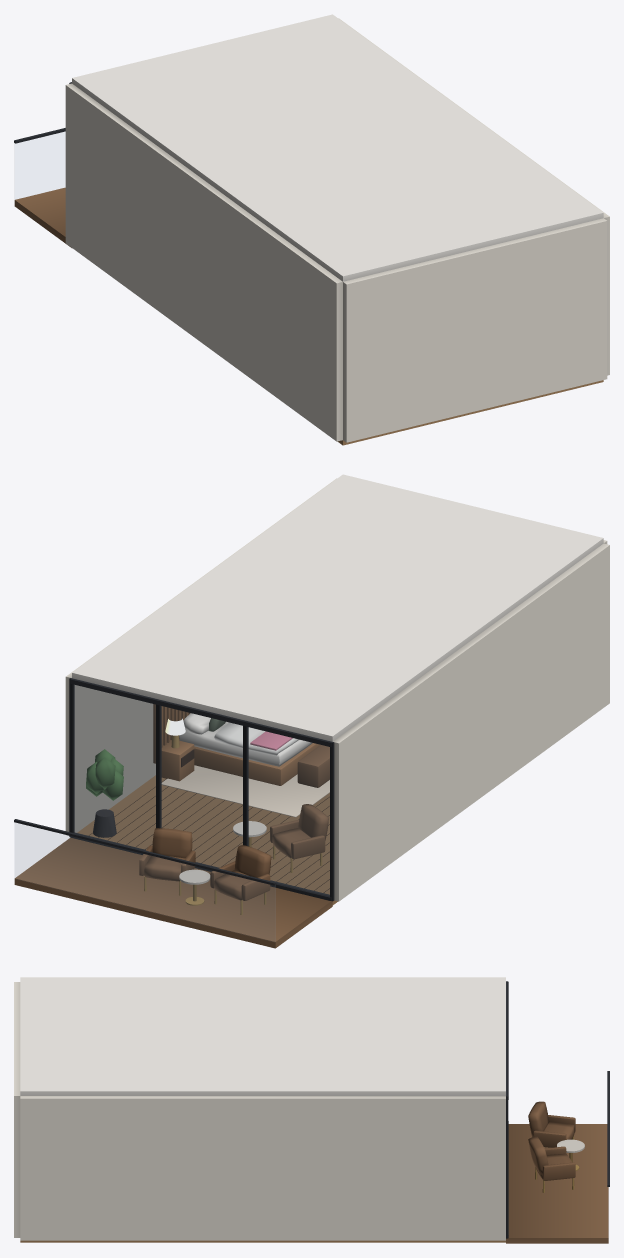
The model's file is kw-deluxe.glb.
3 renders of one model, top to bottom at view 1: azimuth 30°, elevation 25°; view 2: azimuth 150°, elevation 25°; view 3: azimuth 270°, elevation 25°, orthographic. The views are drawn at different scales.
Visible parts, largest first — view 1: Room_wall, Room_ceiling, Room_glass, Room_deck, Room_floor; view 2: Room_ceiling, Room_wall, Room_glass, Room_deck, Room_floor, Room_fabric2, Room_frameDark, Room_rug, Room_wood, Room_linen, Room_leaf, Room_woodDark (+3 smaller); view 3: Room_wall, Room_ceiling, Room_deck, Room_fabric2, Room_floor, Room_frameDark.
Part boxes in pixels (x1=…): Room_wall: x1=65, y1=18, x2=609, y2=442; Room_ceiling: x1=72, y1=14, x2=603, y2=281; Room_glass: x1=15, y1=132, x2=64, y2=199; Room_deck: x1=14, y1=187, x2=71, y2=247; Room_floor: x1=337, y1=380, x2=603, y2=445; Room_ceiling: x1=72, y1=474, x2=603, y2=741; Room_wall: x1=65, y1=478, x2=609, y2=901; Room_glass: x1=15, y1=685, x2=329, y2=940; Room_deck: x1=14, y1=837, x2=332, y2=948; Room_floor: x1=77, y1=775, x2=337, y2=905; Room_fabric2: x1=139, y1=745, x2=329, y2=900; Room_frameDark: x1=14, y1=678, x2=334, y2=901; Room_rug: x1=161, y1=765, x2=329, y2=817; Room_wood: x1=161, y1=706, x2=320, y2=785; Room_linen: x1=179, y1=713, x2=312, y2=766; Room_leaf: x1=86, y1=749, x2=123, y2=800; Room_woodDark: x1=89, y1=749, x2=329, y2=892; Room_wall: x1=14, y1=982, x2=505, y2=1240; Room_ceiling: x1=20, y1=977, x2=505, y2=1095; Room_deck: x1=506, y1=1124, x2=608, y2=1243; Room_fabric2: x1=528, y1=1101, x2=575, y2=1180; Room_floor: x1=20, y1=1240, x2=505, y2=1242; Room_frameDark: x1=506, y1=981, x2=609, y2=1238.
Size of the model in its own units: 5.24 by 3.12 by 11.05.
